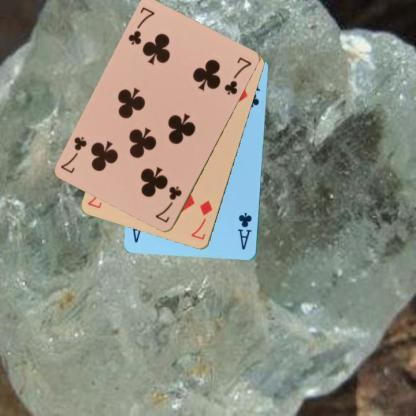7c: (125, 4, 156, 46), (152, 184, 184, 224)
7d: (188, 198, 214, 242)
Ac: (235, 209, 253, 252)
